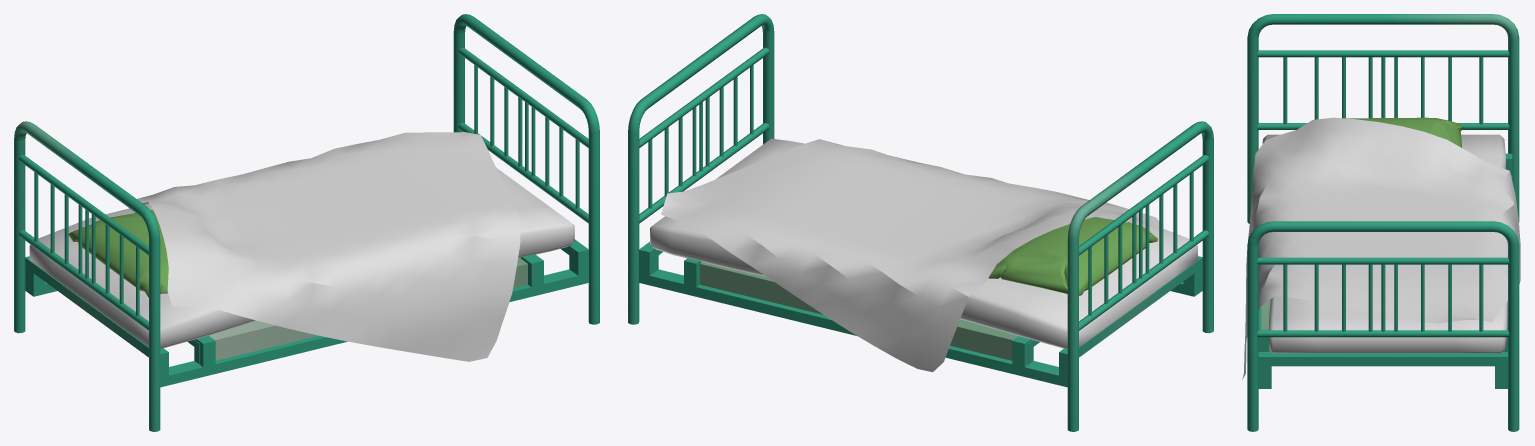
File: bed.fbx
3 views of the same model, side by side, from view 1: azimuth 30°, elevation 25°; view 2: azimuth 150°, elevation 25°; view 3: azimuth 270°, elevation 25° (orthographic). The views are drawn at different scales.
Parts seen in each view (by area): view 1: blanketLow, BedWireframeLow, mattressLow, BedBaseLow, pillowLow, BedWires; view 2: blanketLow, BedWireframeLow, mattressLow, BedBaseLow, pillowLow, BedWires; view 3: blanketLow, BedWireframeLow, mattressLow, BedBaseLow, pillowLow.
Boxes of the visible parts, bbox=[...] form: blanketLow: bbox=[137, 132, 520, 361]; BedWireframeLow: bbox=[14, 14, 599, 431]; mattressLow: bbox=[29, 167, 574, 348]; BedBaseLow: bbox=[25, 239, 588, 387]; pillowLow: bbox=[68, 210, 168, 297]; BedWires: bbox=[194, 258, 527, 364]; blanketLow: bbox=[661, 139, 1159, 372]; BedWireframeLow: bbox=[628, 14, 1213, 431]; mattressLow: bbox=[650, 138, 1197, 348]; BedBaseLow: bbox=[639, 242, 1202, 387]; pillowLow: bbox=[988, 217, 1157, 295]; BedWires: bbox=[700, 262, 1033, 364]; blanketLow: bbox=[1242, 117, 1520, 379]; BedWireframeLow: bbox=[1247, 14, 1519, 431]; mattressLow: bbox=[1262, 134, 1507, 353]; BedBaseLow: bbox=[1254, 153, 1512, 388]; pillowLow: bbox=[1346, 117, 1463, 147].
Size of the model in its own units: 207 by 96.59 by 115.
